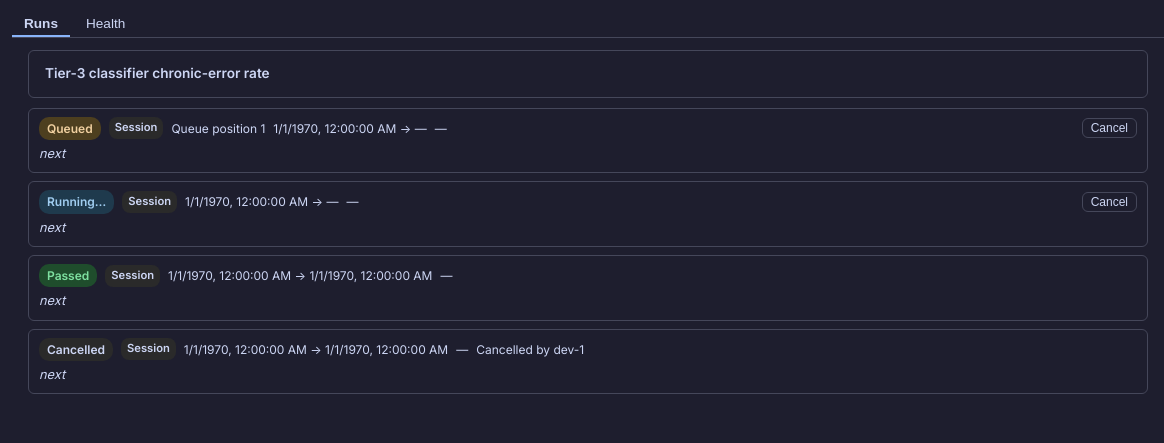
Scenario: TestsView › shows cancel only on queued/running rows, renders cancelled distinctly, and handles 409
expect the button with test id "project-test-run-cancel-r" is shown: met, box [1082,192,1137,212]
expect the text with test id "project-test-run-outcome-c" reads "Cancelled": met, box [47,342,105,357]
Click the button with test id "project-test-run-cancel-q": [1109, 128] box [1082,118,1137,138]
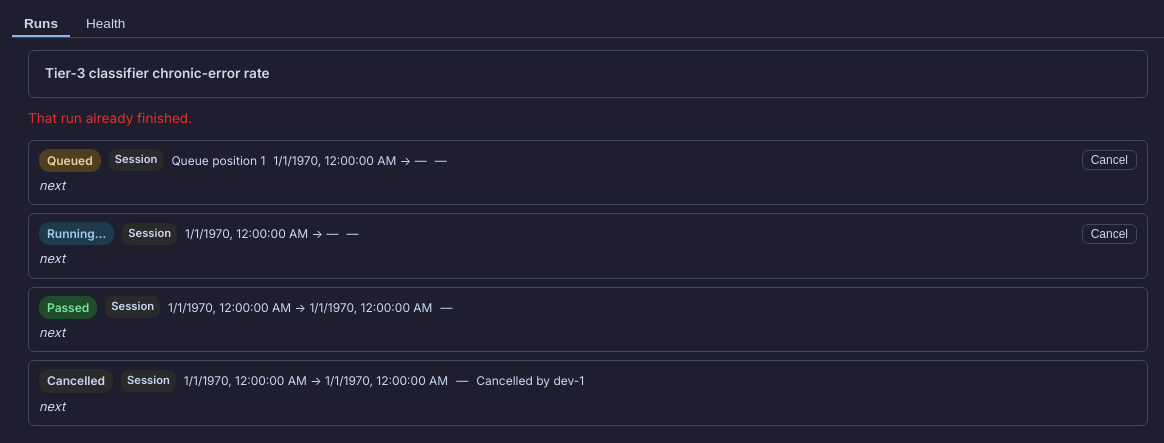
expect the text with test id "tests-view-cancel-notice" reads "That run already finished.": met, box [28,110,192,126]
